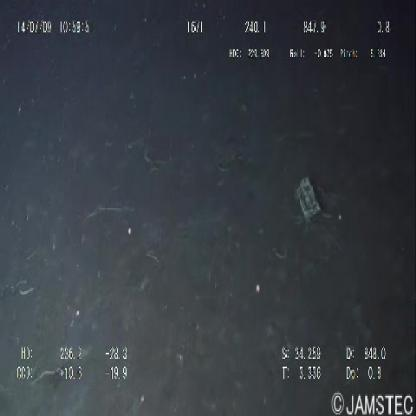Rác: (296, 177, 320, 227)
